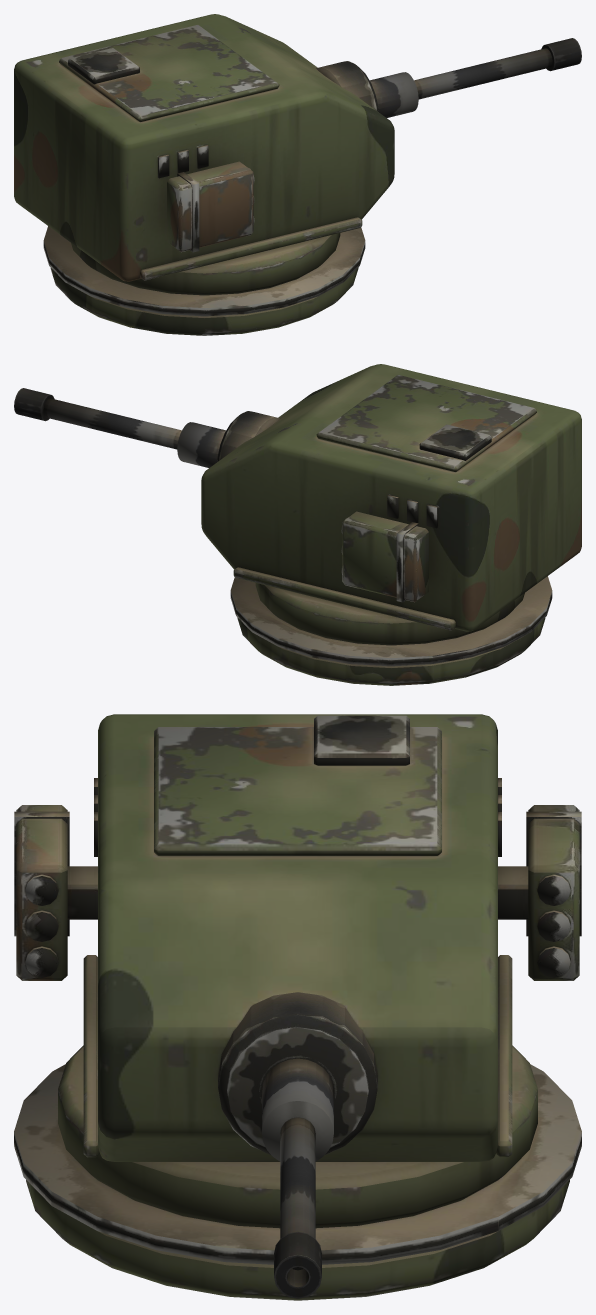
The model's file is turret_grach_t1_forest.glb.
3 renders of one model, top to bottom at view 1: azimuth 30°, elevation 25°; view 2: azimuth 150°, elevation 25°; view 3: azimuth 270°, elevation 25°, orthographic. The views are drawn at different scales.
Parts seen in each view (by area): view 1: turret_light_t1, guns, pods; view 2: turret_light_t1, guns, pods; view 3: turret_light_t1, guns, pods.
Boxes of the visible parts, x1,y1,x2,y2 form: turret_light_t1: [14, 14, 394, 335]; guns: [316, 38, 581, 117]; pods: [167, 161, 254, 252]; turret_light_t1: [201, 364, 581, 685]; guns: [14, 388, 279, 467]; pods: [341, 511, 428, 602]; turret_light_t1: [14, 714, 581, 1300]; guns: [218, 992, 377, 1298]; pods: [14, 805, 581, 980].
Size of the model in its own units: 1.14 by 0.4664 by 0.6248.
3 materials, 3 textured.
